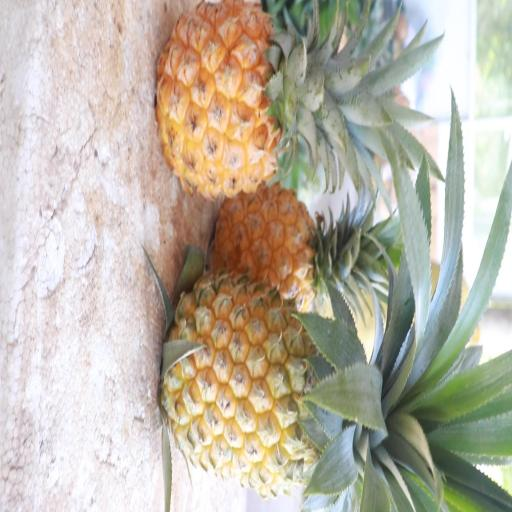Pineapple - v8 v1: (160, 264, 387, 500), (153, 0, 356, 206), (212, 181, 380, 296)
